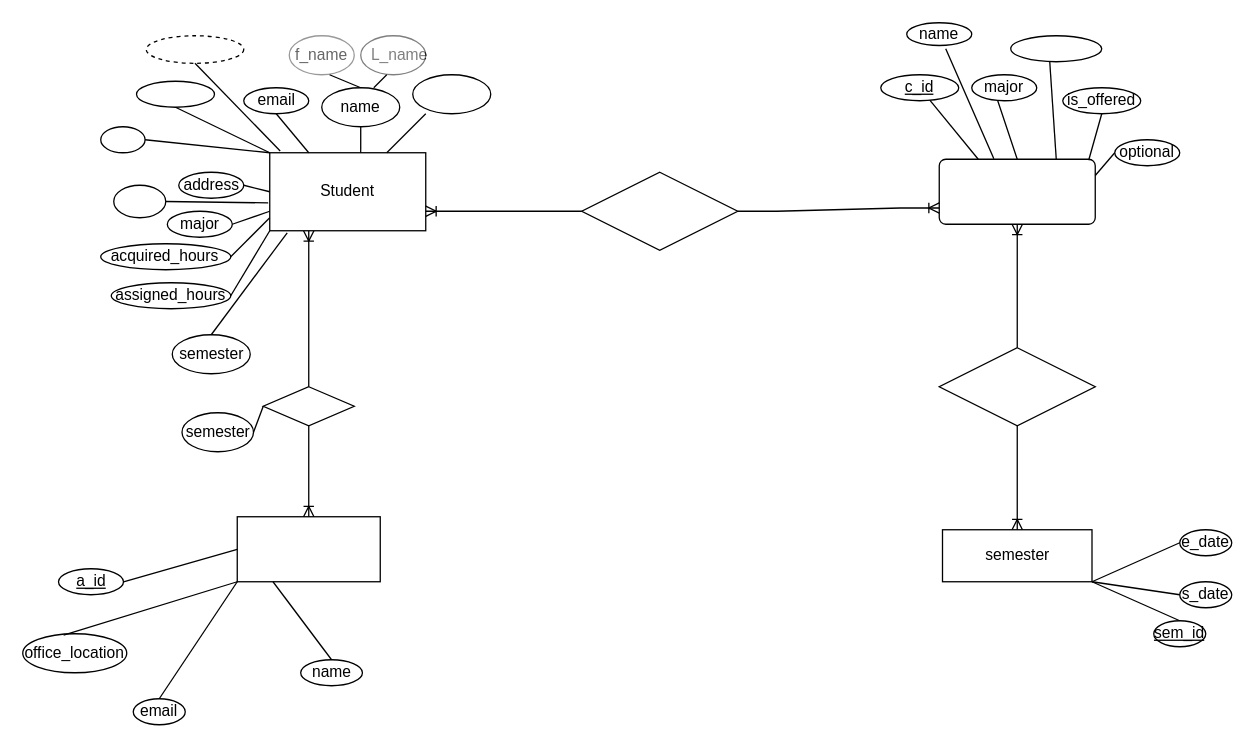
This 1255x748 diagram has some shape labels left out. Each missing label, with the box of its shape:
advise: (262, 385, 354, 426)
advisor: (236, 515, 380, 582)
course: (938, 158, 1095, 224)
credit hours: (1009, 34, 1102, 62)
enrolled: (580, 171, 738, 250)
faculty: (112, 184, 166, 218)
gpa: (99, 125, 145, 153)
id: (411, 73, 491, 114)
mobile_num: (145, 34, 244, 63)
offered_in_sems: (938, 346, 1095, 426)
status: (135, 80, 214, 107)
